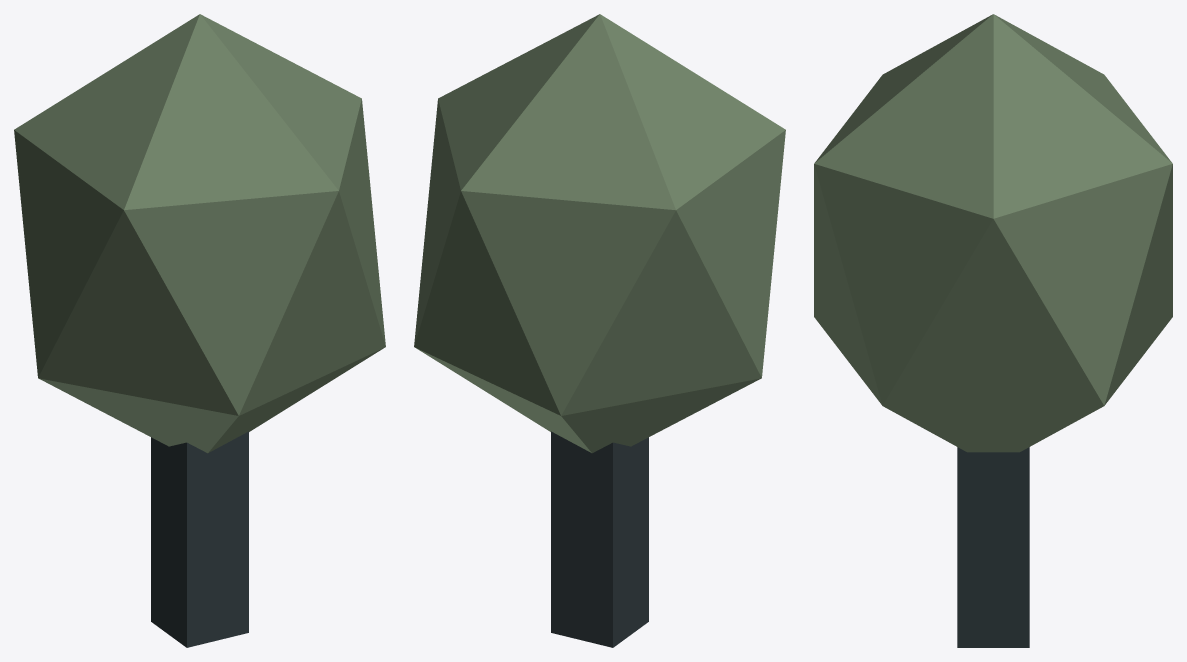
The model's file is terrain-tree-lod1.cff2a2541a0b.glb.
3 renders of one model, left to right at view 1: azimuth 30°, elevation 25°; view 2: azimuth 150°, elevation 25°; view 3: azimuth 270°, elevation 25°, orthographic.
Parts seen in each view (by area): view 1: body; view 2: body; view 3: body.
Part boxes in pixels (x1,y1,x2,y2): body: (14, 14, 385, 647); body: (414, 14, 785, 647); body: (814, 14, 1172, 647).
Bounding box in the file's own units: 0.6798 × 1.23 × 0.6465.
